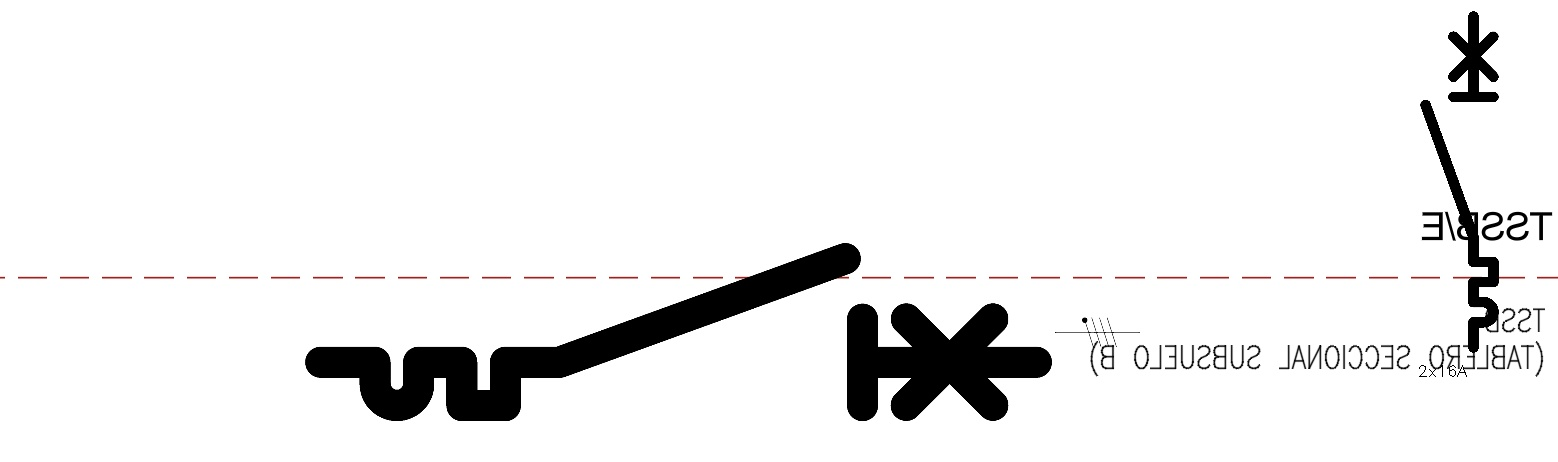interruptor_termomagnetico: (302, 240, 1055, 424), (1417, 8, 1502, 356)
